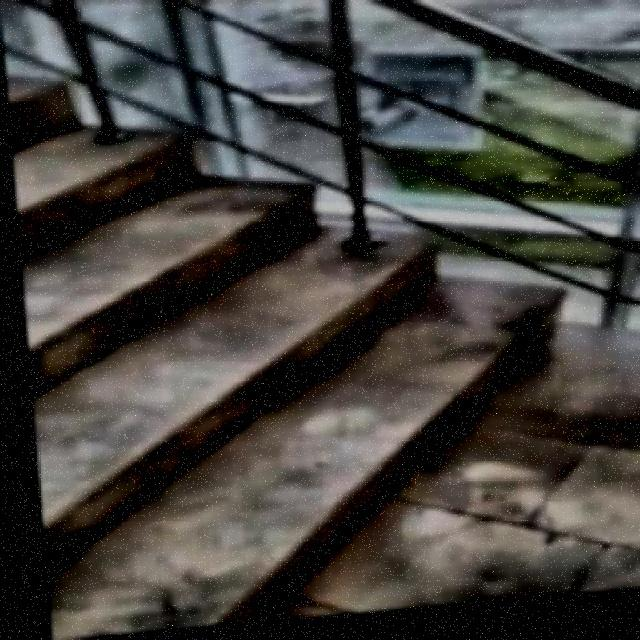stair: (5, 27, 597, 638)
